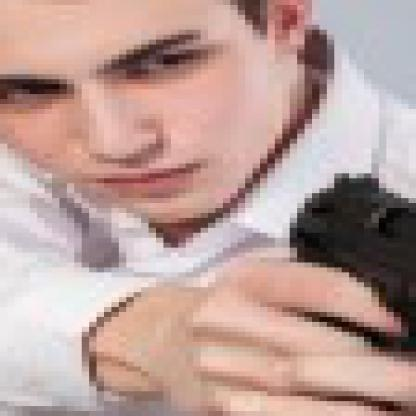gun: (268, 158, 408, 416)
